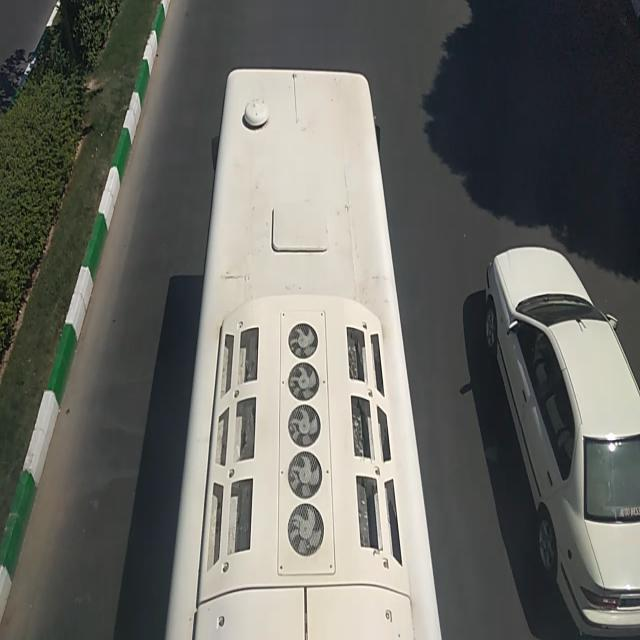bus: (162, 68, 442, 640)
car: (479, 250, 640, 640)
